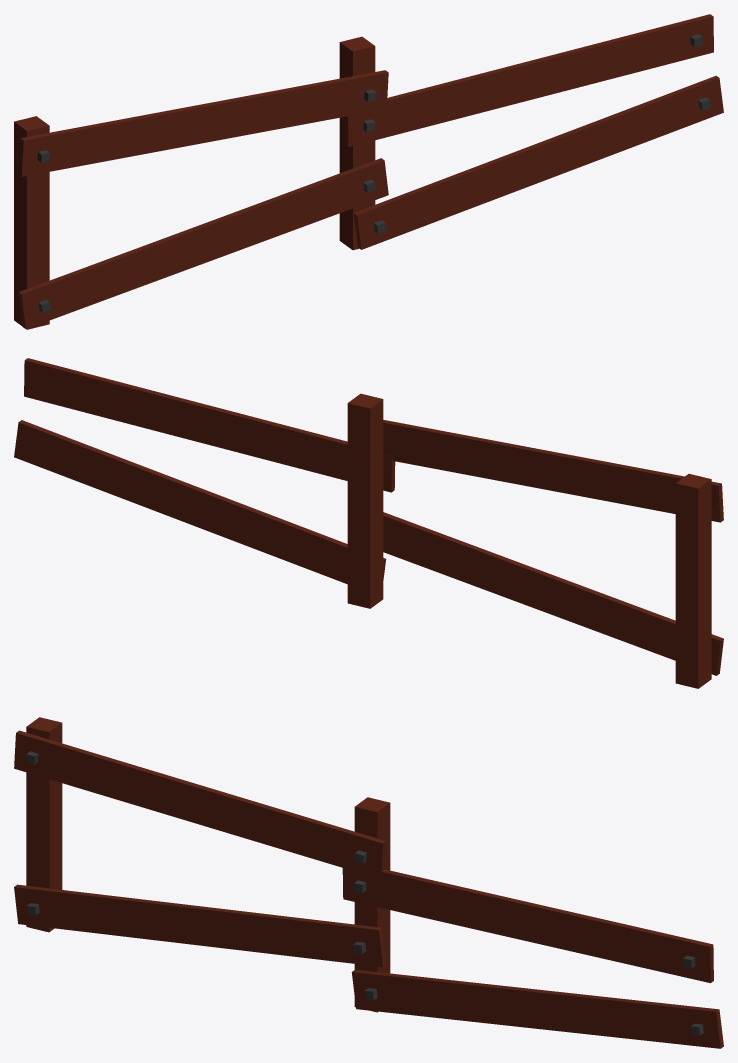
Rendered from Fence_Brown_Medium.fbx.
3 views of the same model, one above another, from view 1: azimuth 30°, elevation 25°; view 2: azimuth 150°, elevation 25°; view 3: azimuth 330°, elevation 25° (orthographic).
Visible parts, largest first — view 1: vallasC2; view 2: vallasC2; view 3: vallasC2.
Part boxes in pixels (bbox=[...]): vallasC2: bbox=[14, 14, 723, 329]; vallasC2: bbox=[14, 358, 723, 688]; vallasC2: bbox=[14, 717, 723, 1048].
Size of the model in its own units: 446 by 121 by 22.8.
